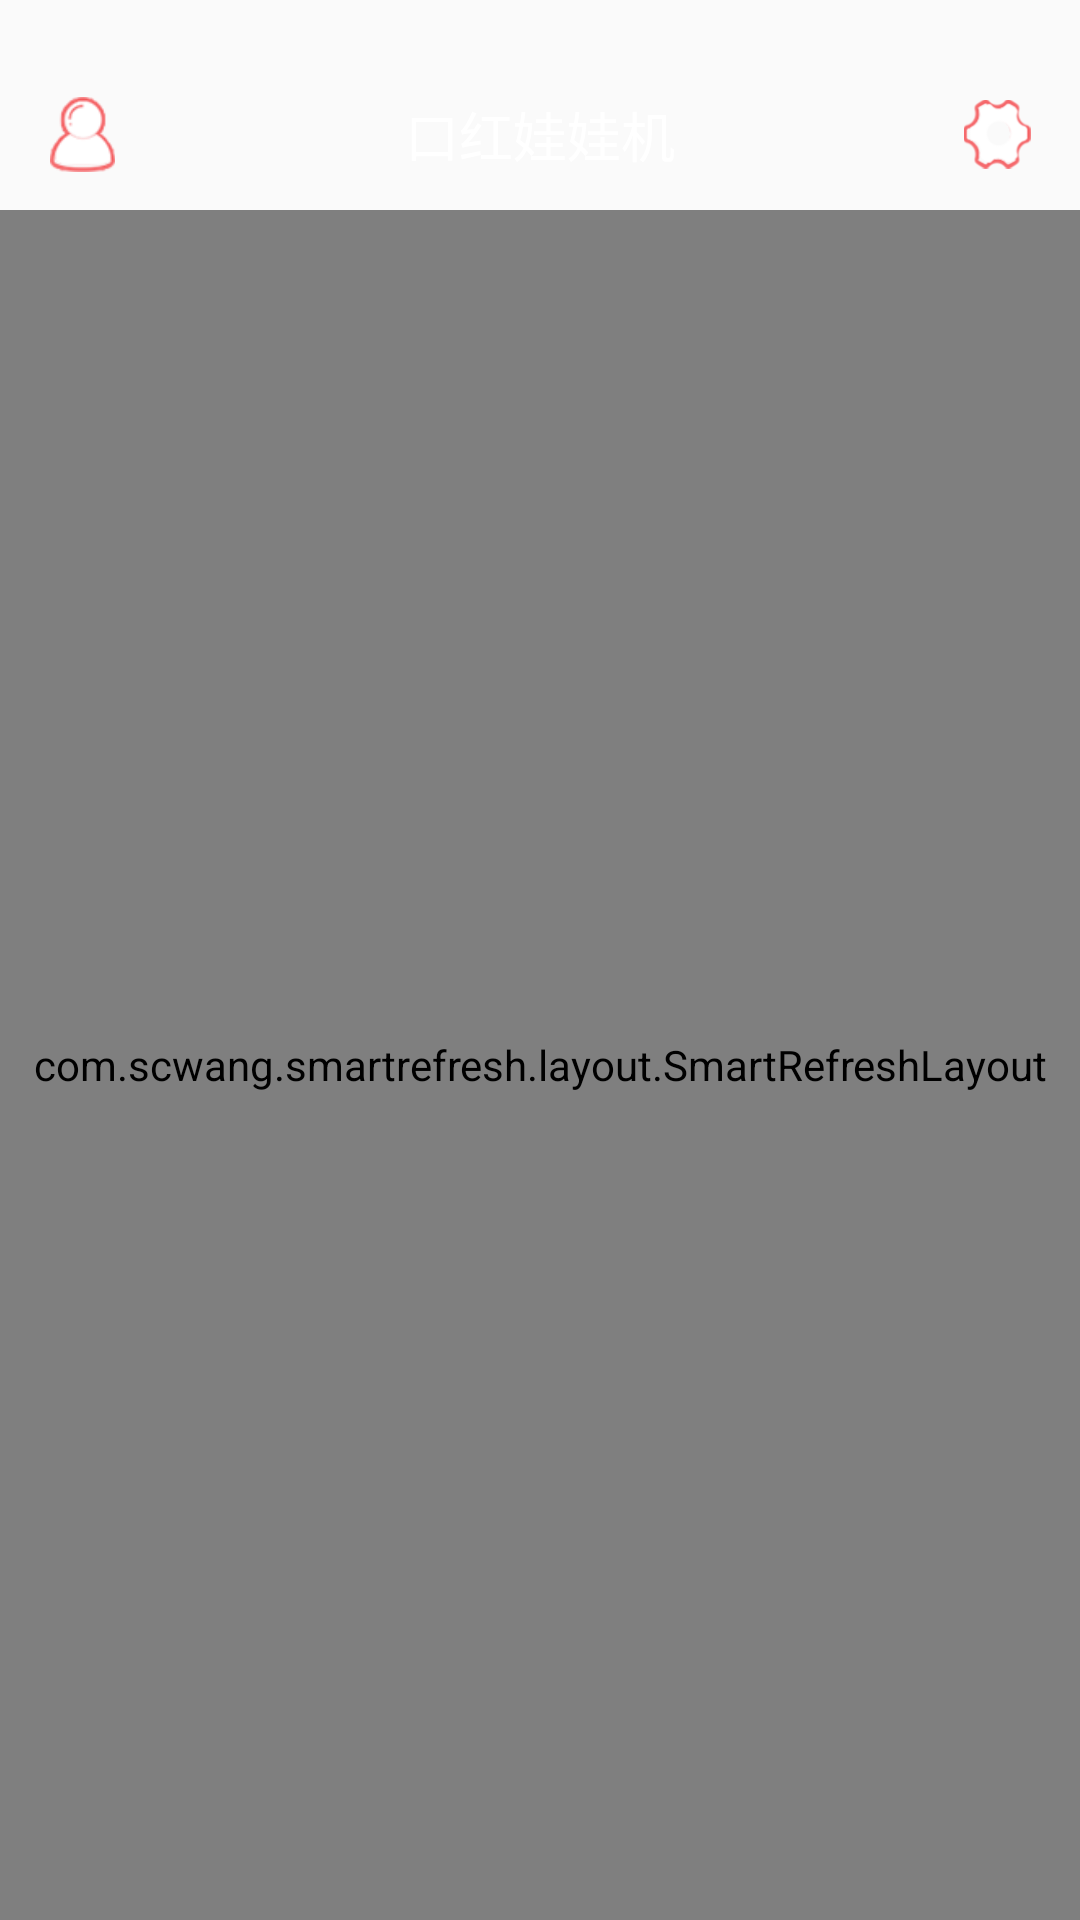

Point at icon controls on the screen. Image size 1080*1920, points as (x,y).
index set: (997,134)
index user: (82,134)
